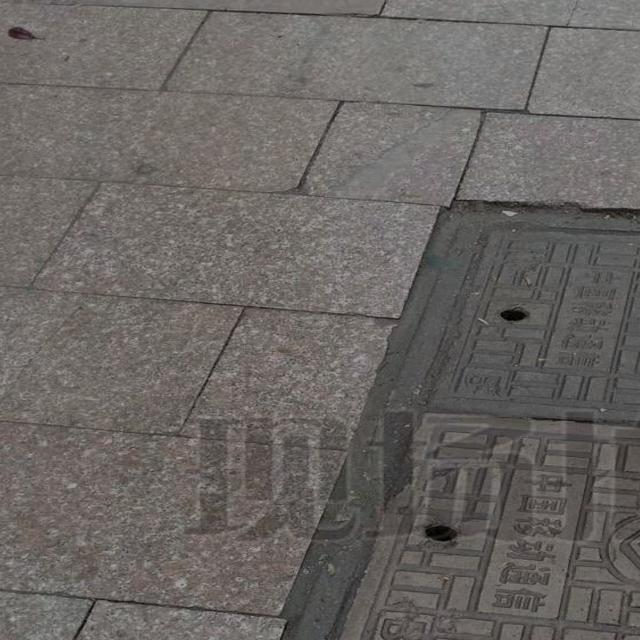good: (266, 200, 640, 640)
